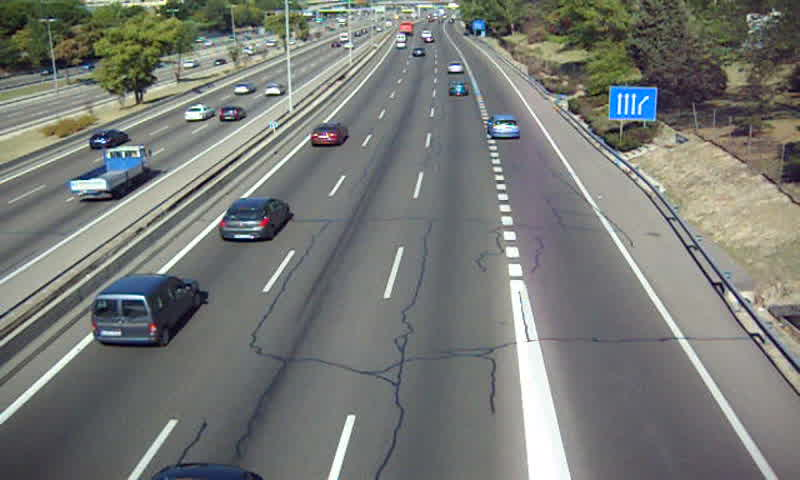car: (218, 198, 290, 240), (310, 123, 348, 147), (487, 114, 521, 138), (447, 80, 469, 96), (446, 60, 464, 72)
van: (88, 275, 200, 346)
